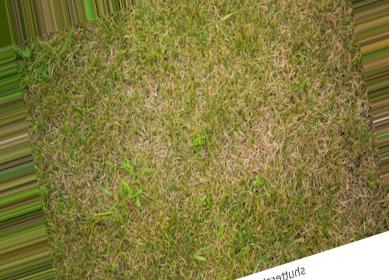patch: (128, 107, 184, 156), (58, 154, 105, 200), (220, 73, 248, 131), (212, 136, 262, 166), (257, 47, 300, 78), (149, 169, 200, 195), (129, 75, 175, 100), (90, 72, 113, 111), (256, 107, 290, 122), (189, 84, 213, 105)
